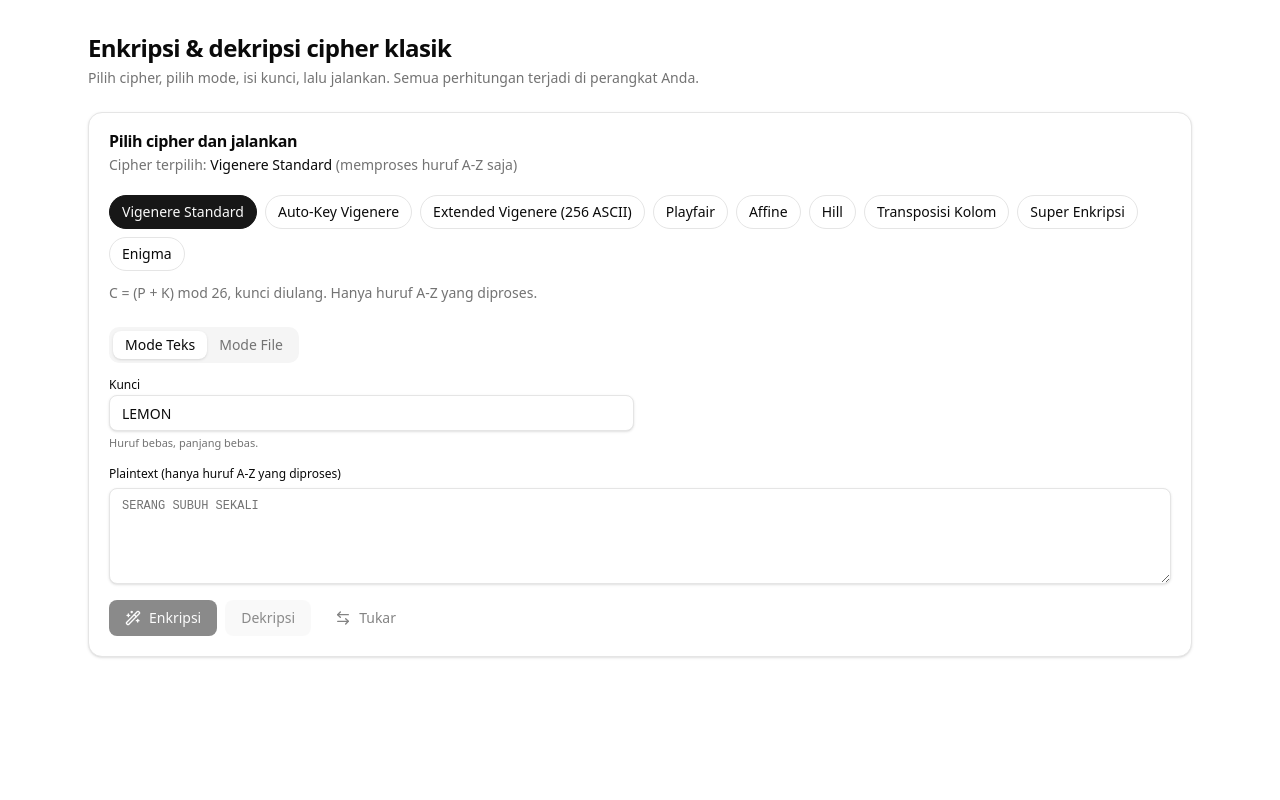
Test: S16 — halaman utama › Enigma menampilkan konfigurasi rotornya, bukan kolom kunci biasa
The width and height of the screenshot is (1280, 800).
Click the radio button labelled "Enigma" at (147,254), box [109, 237, 185, 271]
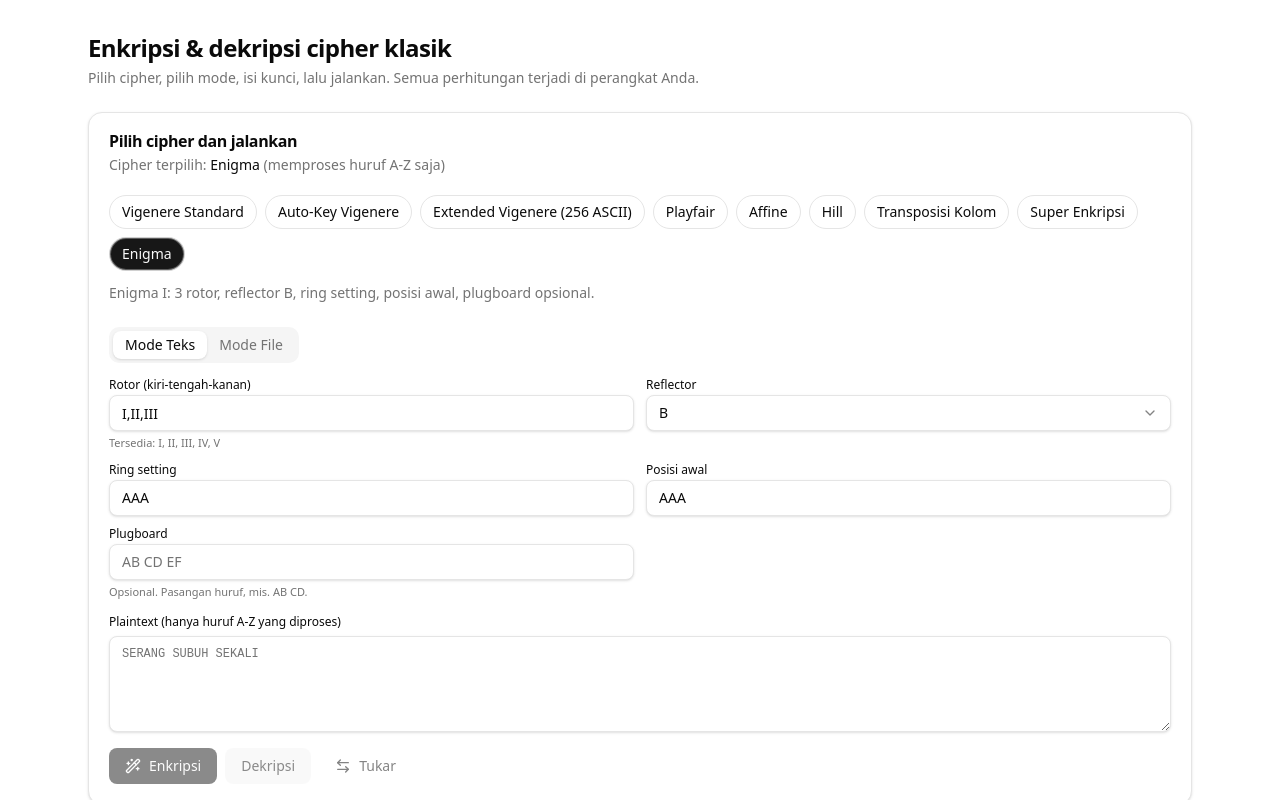
Result: the field labelled "Rotor (kiri-tengah-kanan)" is shown at [109, 395, 634, 431]
Result: the field labelled "Ring setting" is shown at [109, 480, 634, 516]
Result: the field labelled "Posisi awal" is shown at [646, 480, 1171, 516]
